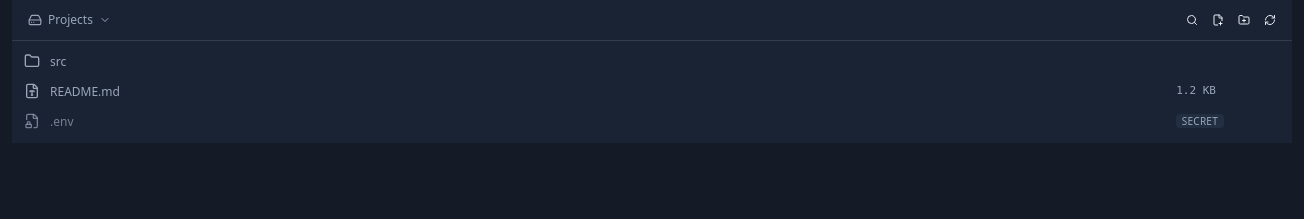
Test case: FileBrowser › T2.6 fuzzy go-to-file filter (§2(d) keystroke-revealed) › Escape clears AND hides a revealed filter
Click the button named "find file". click: (1192, 20)
box: x1=1180 y1=8 x2=1204 y2=32
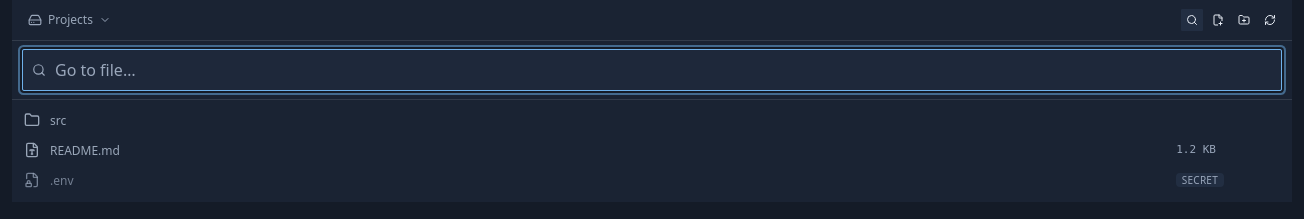
Type "rme" into the search field labelled "Go to file…". click: (652, 70)
box: x1=22 y1=49 x2=1282 y2=91
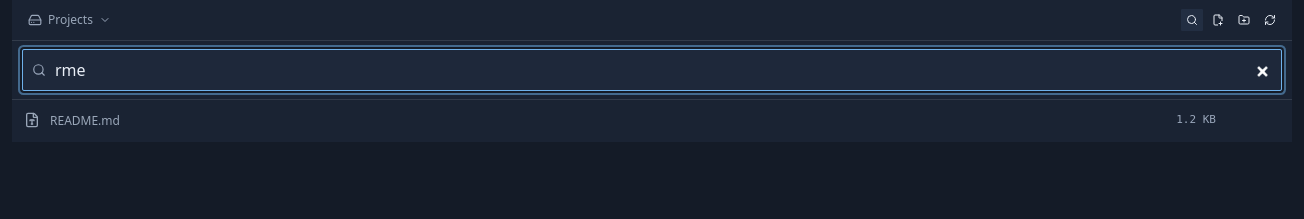
Press Escape
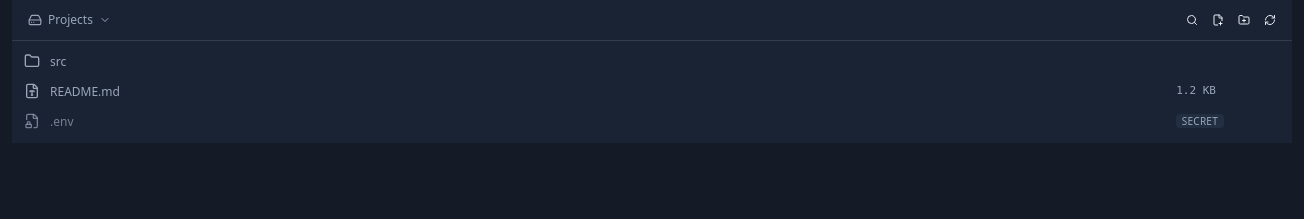
Expected: the search field labelled "go to file" is not shown
Expected: the button "src" is shown, x1=12 y1=47 x2=1292 y2=75
